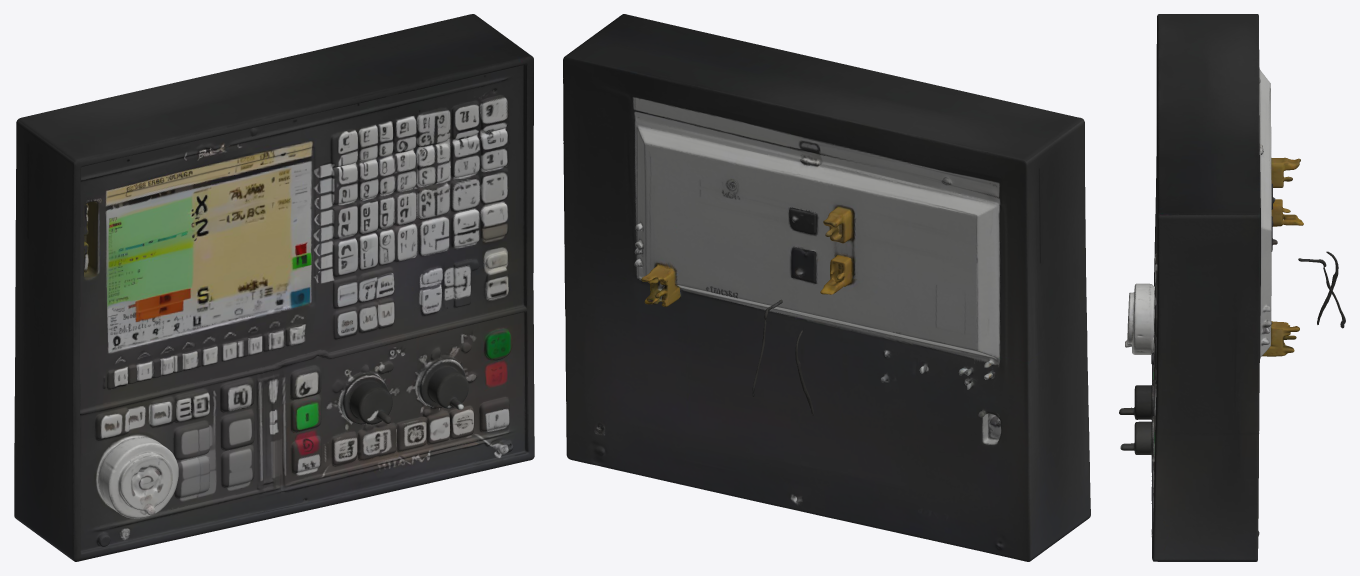
The model's file is industrial control panel 3d model.glb.
The picture shows the model from 3 angles, left to right: view 1: azimuth 30°, elevation 25°; view 2: azimuth 150°, elevation 25°; view 3: azimuth 270°, elevation 25°; orthographic projection. The views are drawn at different scales.
Parts seen in each view (by area): view 1: tripo_node_5108193b-6cca-4d2c-8a8f-6495acb8496a; view 2: tripo_node_5108193b-6cca-4d2c-8a8f-6495acb8496a; view 3: tripo_node_5108193b-6cca-4d2c-8a8f-6495acb8496a.
Boxes of the visible parts, x1,y1,x2,y2 form: tripo_node_5108193b-6cca-4d2c-8a8f-6495acb8496a: (14, 14, 534, 561); tripo_node_5108193b-6cca-4d2c-8a8f-6495acb8496a: (563, 14, 1090, 561); tripo_node_5108193b-6cca-4d2c-8a8f-6495acb8496a: (1119, 14, 1345, 561).
Bounding box in the file's own units: 1 × 0.8622 × 0.4861.
1 material, 1 textured.
